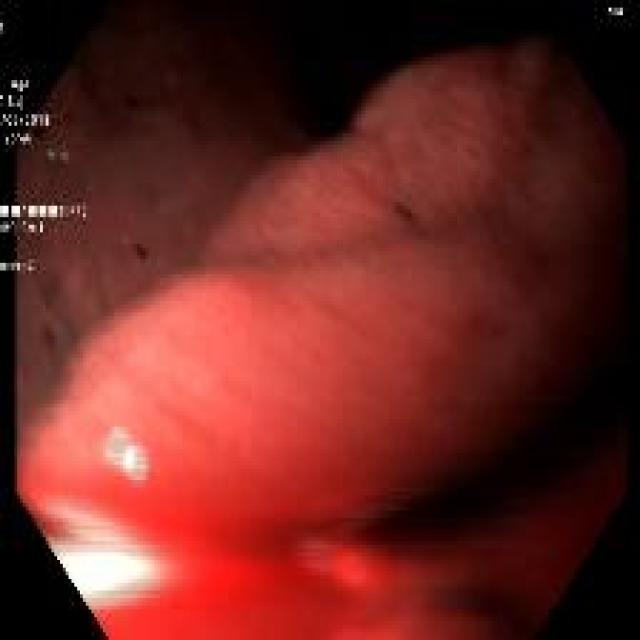blur: (40, 199, 535, 640)
color misalignment: (0, 204, 90, 238), (1, 94, 51, 147), (1, 259, 37, 274), (11, 75, 31, 92), (607, 5, 623, 18), (1, 22, 5, 36)
contrast: (111, 3, 529, 158), (416, 403, 566, 557)
saturation: (48, 510, 168, 612), (104, 432, 146, 484)
